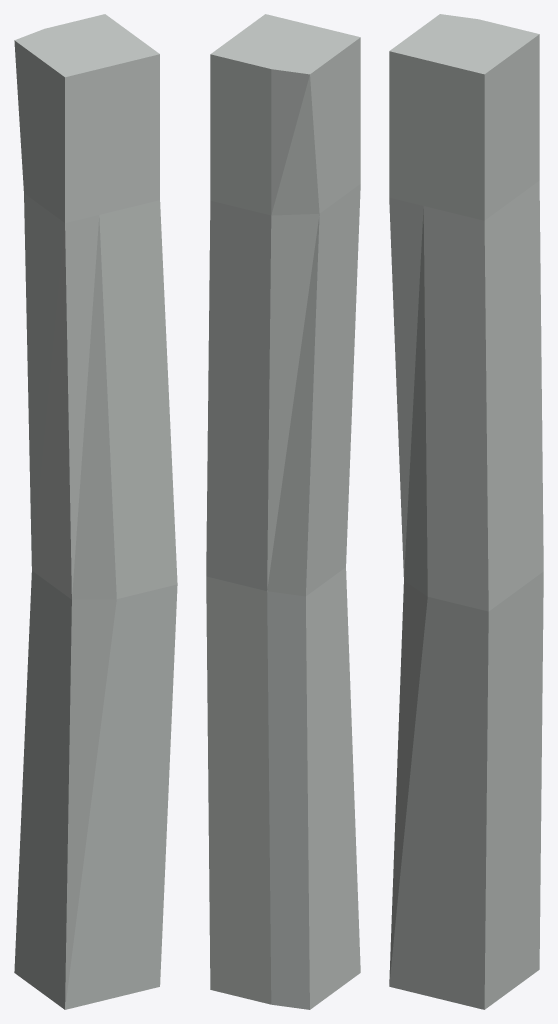
The model's file is SM_Bld_Mansion_Pole_01.glb.
The picture shows the model from 3 angles, left to right: view 1: azimuth 30°, elevation 25°; view 2: azimuth 150°, elevation 25°; view 3: azimuth 330°, elevation 25°; orthographic projection.
Visible parts, largest first — view 1: SM_Bld_Mansion_Pole_01_part00; view 2: SM_Bld_Mansion_Pole_01_part00; view 3: SM_Bld_Mansion_Pole_01_part00.
Part boxes in pixels (box(x1,y1,x2,y2)): SM_Bld_Mansion_Pole_01_part00: box(14, 14, 177, 1009); SM_Bld_Mansion_Pole_01_part00: box(206, 14, 360, 1009); SM_Bld_Mansion_Pole_01_part00: box(389, 14, 543, 1009).
Size of the model in its own units: 0.2545 by 2.14 by 0.2563.
Materials: 1 (1 with a texture image).
